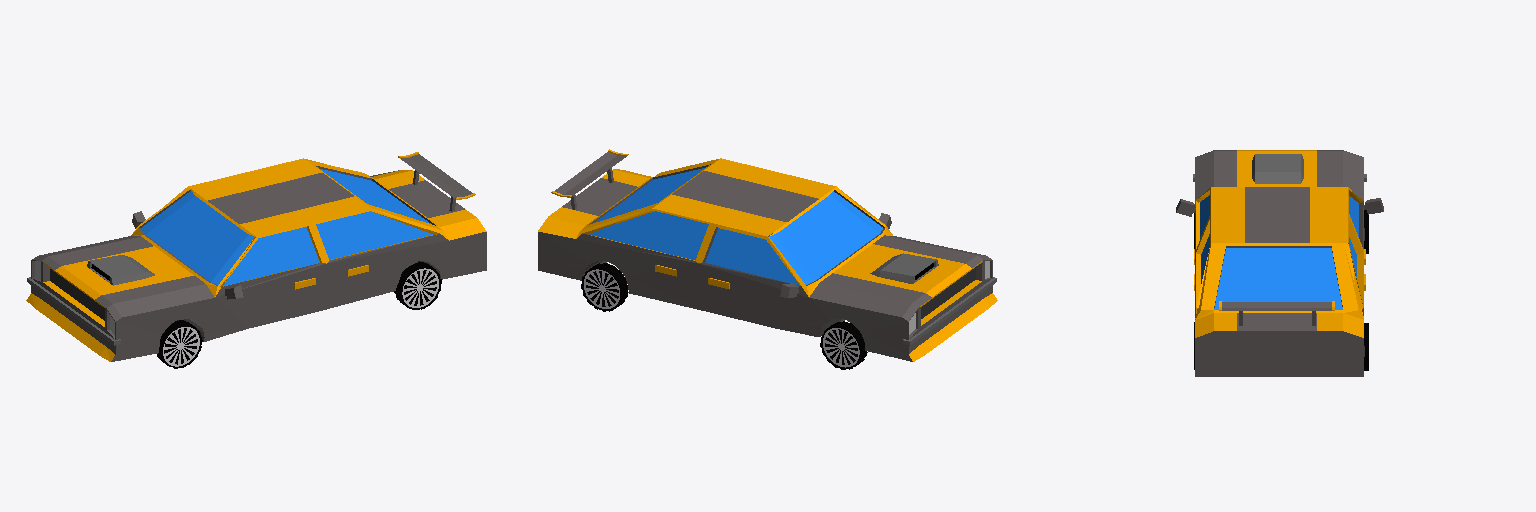
The model's file is car2.obj.
The picture shows the model from 3 angles: view 1: azimuth 30°, elevation 25°; view 2: azimuth 150°, elevation 25°; view 3: azimuth 270°, elevation 25°; orthographic projection.
Visible parts, largest first — view 1: Cube, Cylinder.000, Cylinder.003, Cube.009, Plane.001, Cube.001; view 2: Cube, Cylinder.002, Cylinder.004, Cube.009, Plane.001, Cube.001; view 3: Cube, Cube.009, Plane.001.
Part boxes in pixels (x1,y1,x2,y2): Cube: (26,158,486,361); Cylinder.000: (394,261,441,309); Cylinder.003: (157,320,202,368); Cube.009: (87,255,154,285); Plane.001: (398,152,475,199); Cube.001: (27,277,120,345); Cube: (538,158,997,361); Cylinder.002: (581,263,627,311); Cylinder.004: (820,321,867,369); Cube.009: (870,253,938,283); Plane.001: (551,149,628,197); Cube.001: (903,277,996,345); Cube: (1195,150,1364,376); Cube.009: (1252,154,1303,183); Plane.001: (1219,301,1334,310).
Bounding box in the file's own units: 6.5 × 1.73 × 3.09.